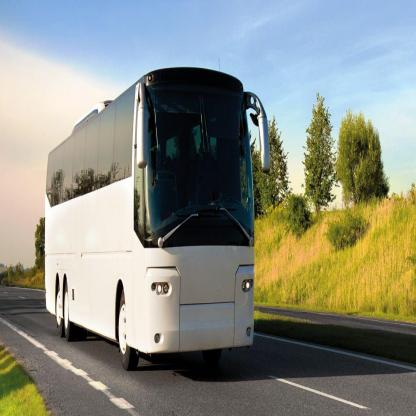Bus: (41, 69, 271, 390)
